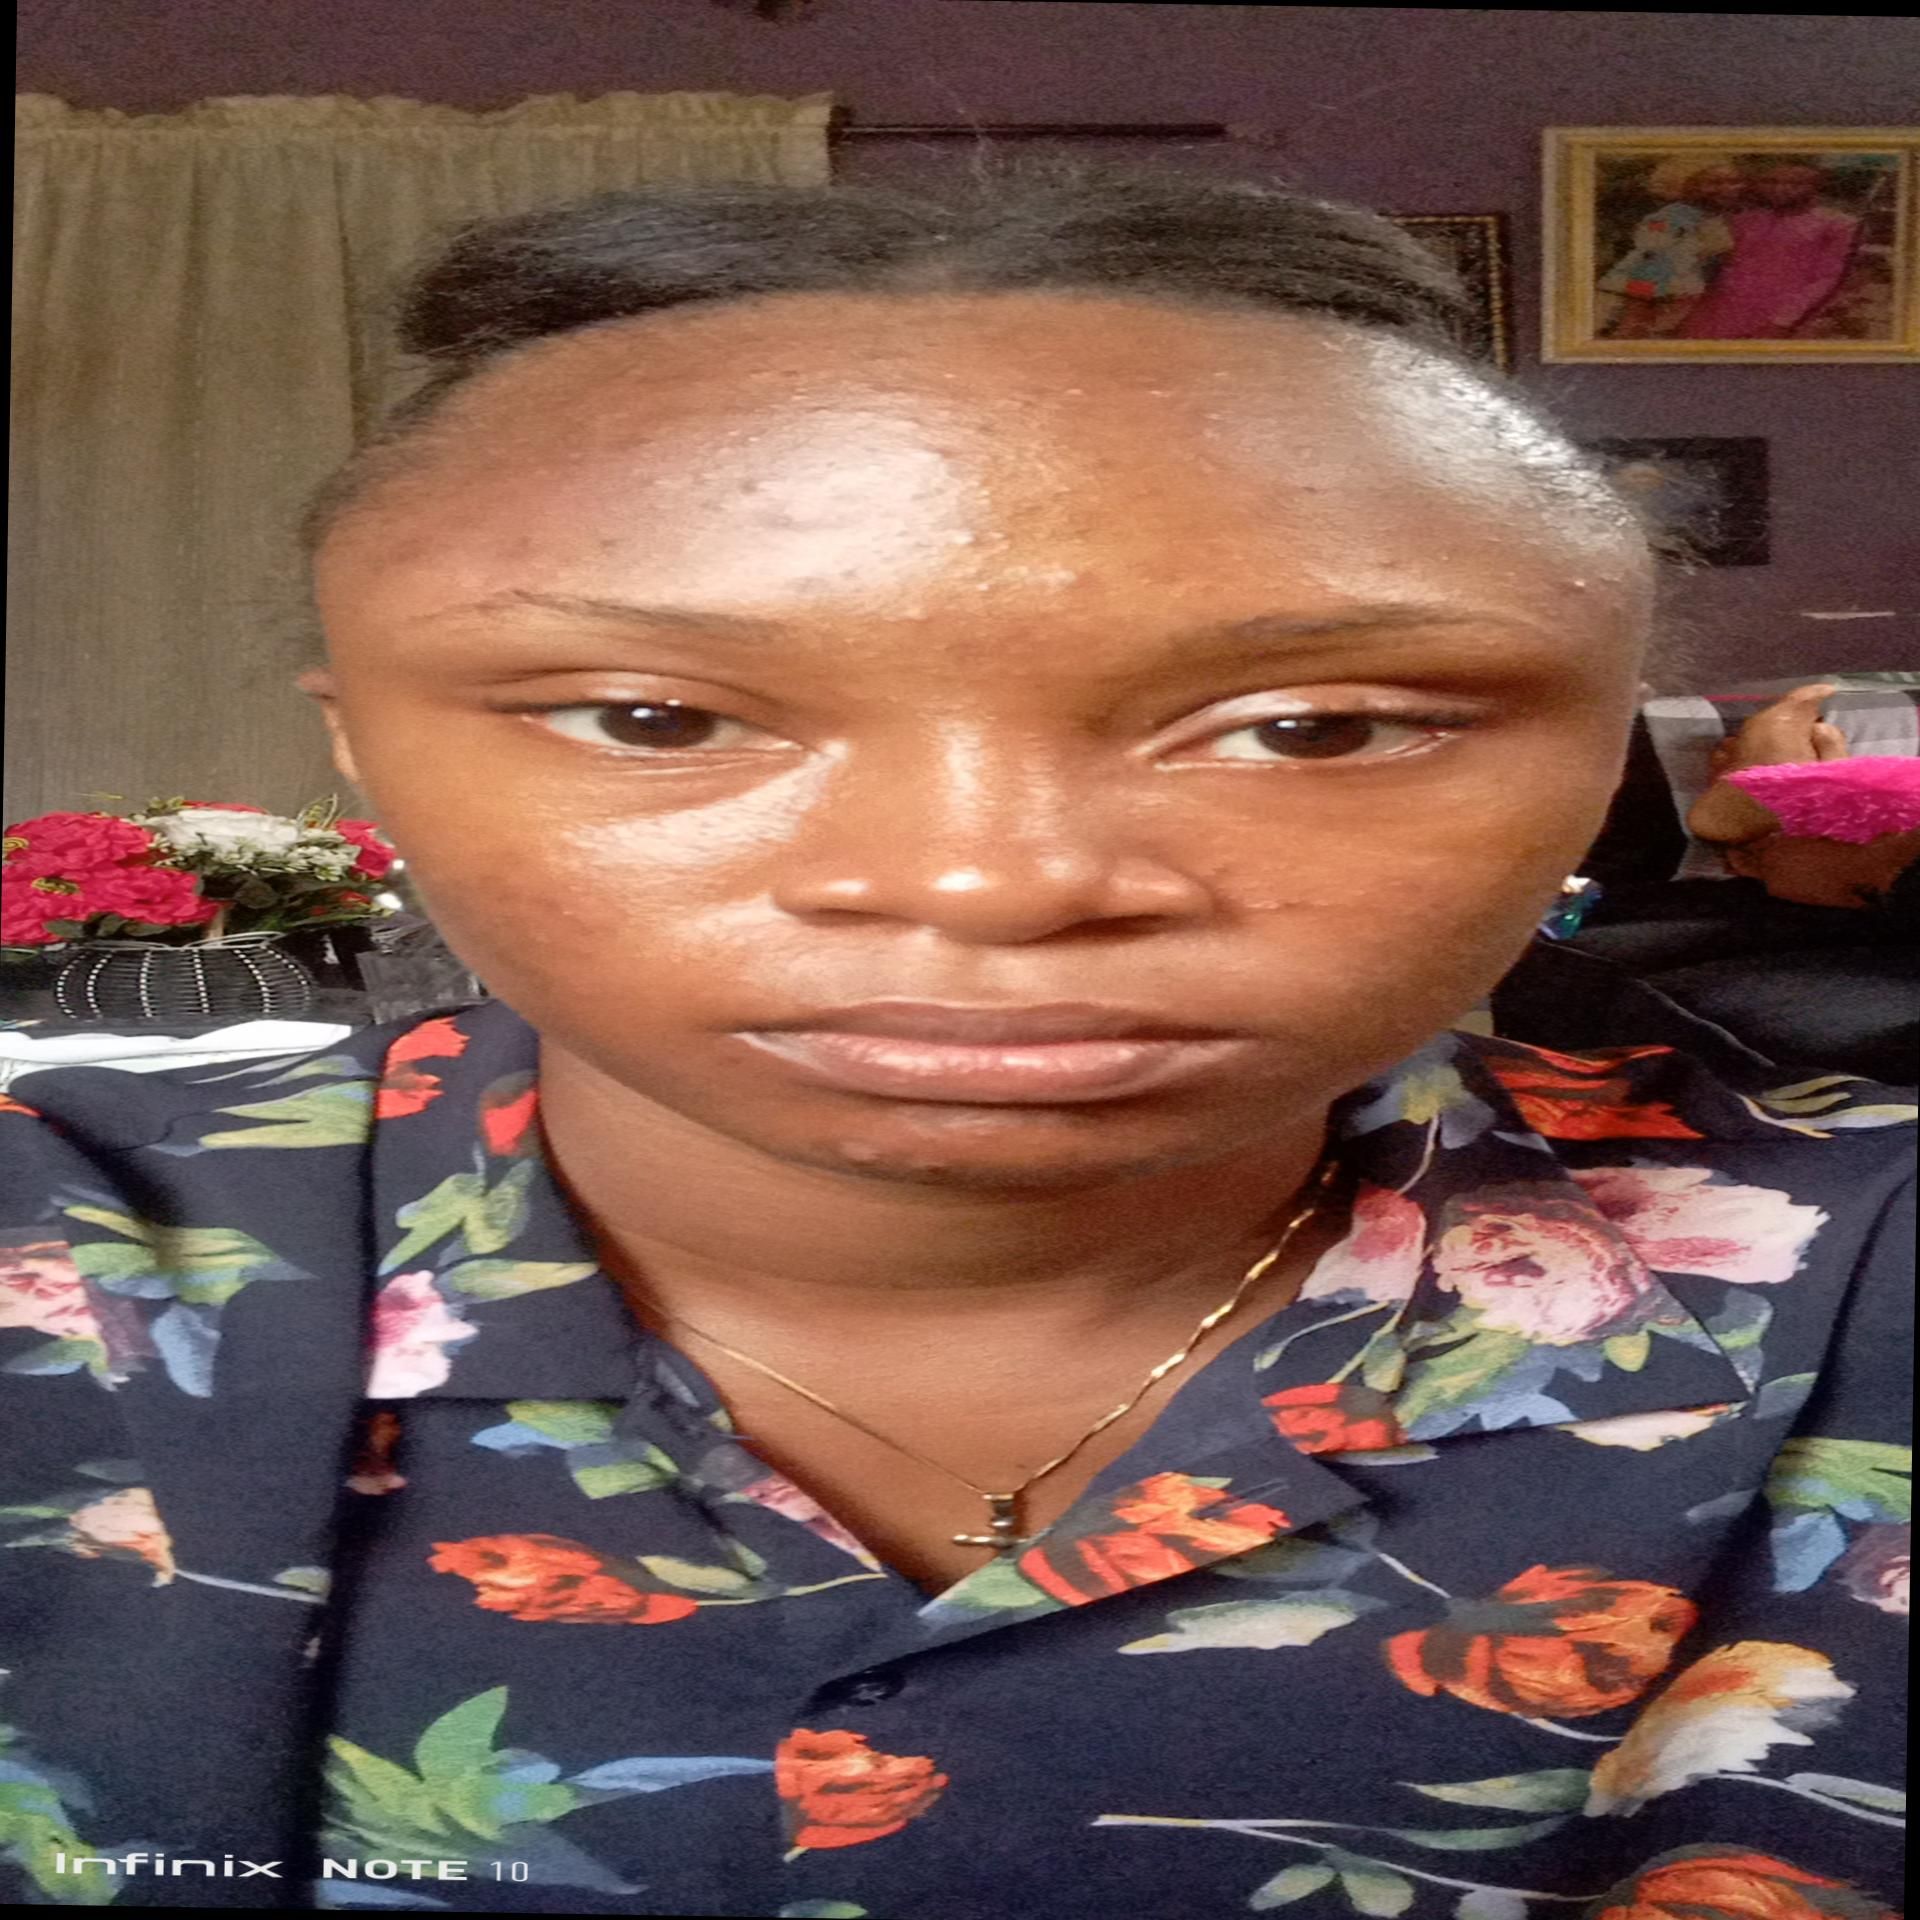Acne: (1220, 893, 1350, 916), (828, 375, 921, 399), (1115, 364, 1178, 396), (1030, 561, 1106, 587), (832, 1136, 883, 1171), (951, 561, 995, 601), (543, 828, 605, 853), (754, 508, 811, 533), (707, 425, 777, 445), (800, 403, 881, 418), (731, 473, 786, 496), (884, 596, 928, 624), (855, 345, 921, 362), (689, 501, 749, 520), (902, 482, 956, 503), (920, 438, 960, 466), (1189, 403, 1238, 425), (744, 362, 805, 378), (781, 571, 828, 591), (703, 1053, 754, 1071), (914, 638, 965, 656), (985, 447, 1048, 461), (948, 529, 993, 549), (891, 524, 932, 545), (1004, 494, 1048, 513), (1050, 383, 1108, 397), (782, 380, 821, 401), (1190, 364, 1236, 382), (462, 909, 512, 925), (614, 360, 652, 380), (589, 536, 631, 554), (962, 476, 992, 501), (983, 529, 1013, 554), (498, 533, 543, 549), (1197, 424, 1231, 445), (615, 433, 659, 448), (1292, 482, 1336, 498), (693, 464, 724, 485), (999, 394, 1034, 411), (1087, 454, 1122, 471), (897, 413, 928, 431), (1041, 482, 1076, 498), (969, 418, 1000, 436), (554, 877, 587, 893), (1002, 666, 1036, 682), (1189, 461, 1225, 475), (1567, 575, 1598, 591), (965, 1127, 1006, 1139), (881, 691, 916, 705), (913, 1162, 951, 1175), (1366, 557, 1403, 570), (1294, 441, 1319, 459), (840, 563, 867, 578), (932, 403, 958, 418), (552, 907, 584, 920), (1131, 484, 1155, 499), (651, 476, 677, 489), (932, 371, 972, 378)
